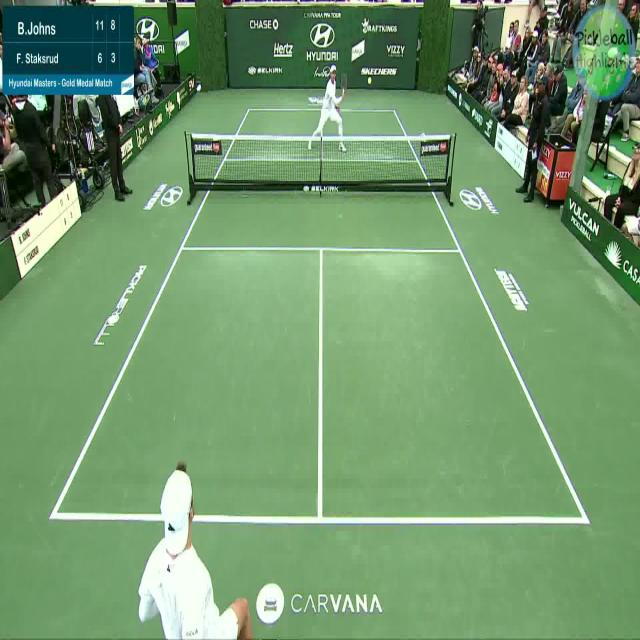ball: (368, 73, 372, 86)
